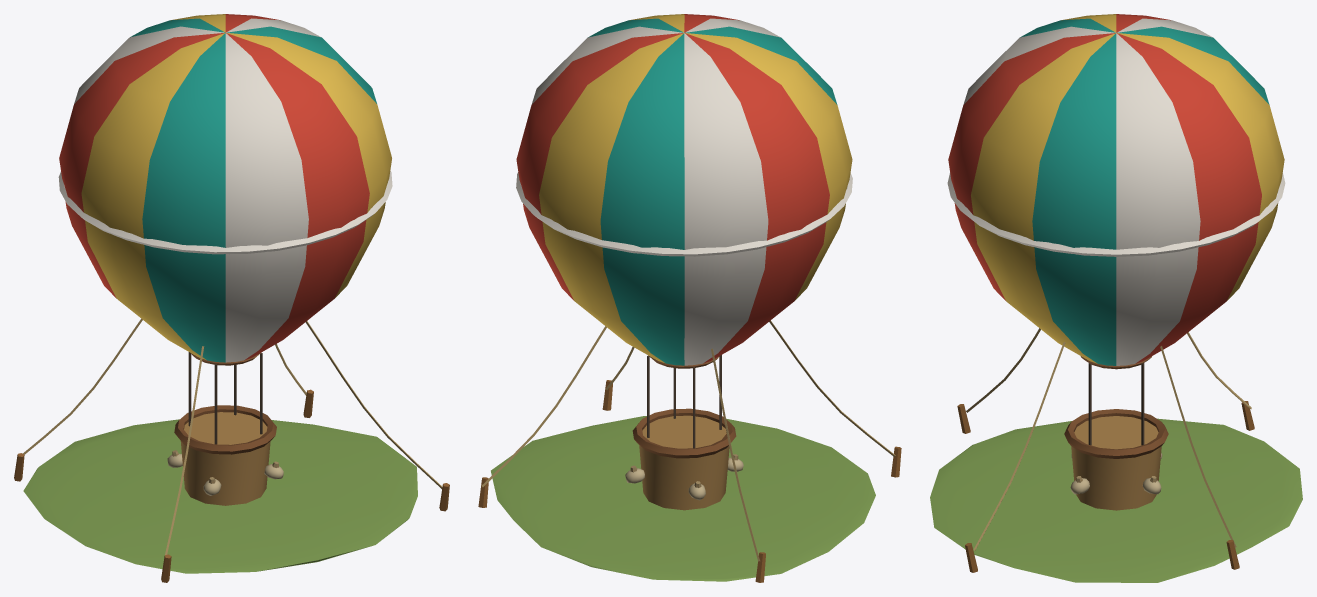
File: hot_air_balloon.glb
3 renders of one model, left to right at view 1: azimuth 30°, elevation 25°; view 2: azimuth 150°, elevation 25°; view 3: azimuth 270°, elevation 25°, orthographic.
Visible parts, largest first — view 1: decor-hot_air_balloon; view 2: decor-hot_air_balloon; view 3: decor-hot_air_balloon.
Part boxes in pixels (x1=…): decor-hot_air_balloon: x1=14, y1=14, x2=449, y2=582; decor-hot_air_balloon: x1=478, y1=14, x2=901, y2=582; decor-hot_air_balloon: x1=930, y1=14, x2=1302, y2=582.
Bounding box in the file's own units: 5.21 × 6.95 × 4.99.
